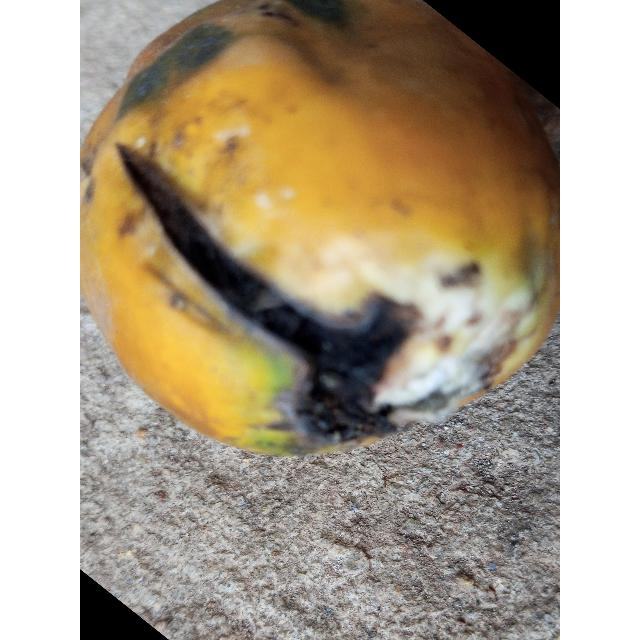damaged: (80, 0, 560, 459)
